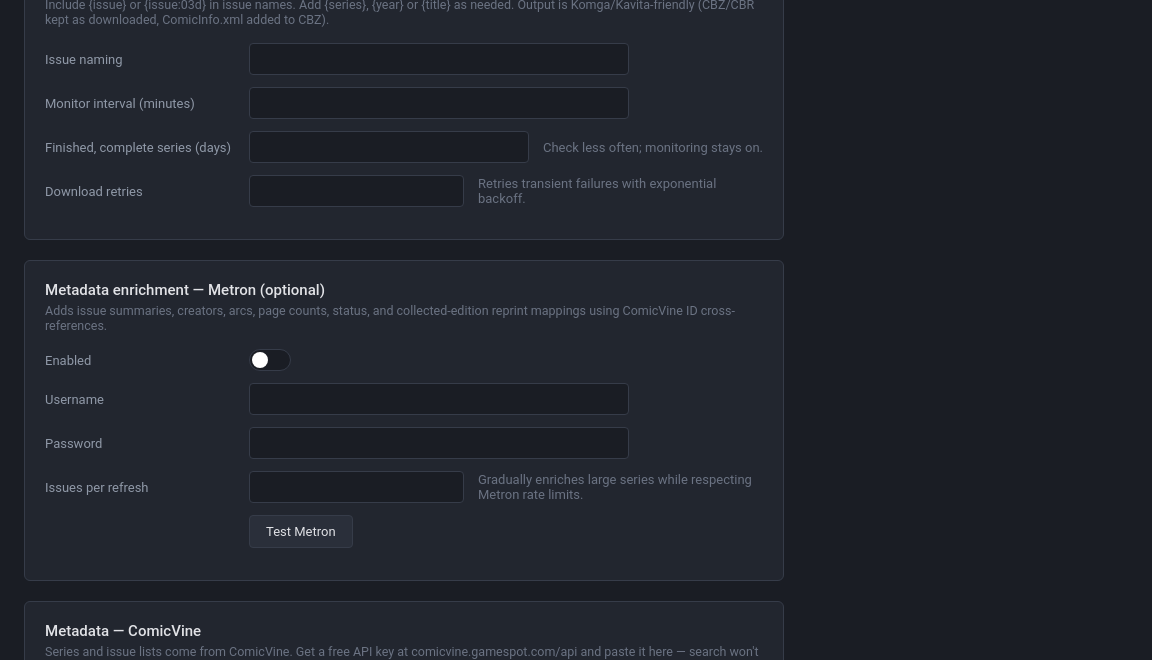
Test case: unsaved settings disable browser password changes and sign-out
The width and height of the screenshot is (1152, 660).
(page scrolled)
What coordinates should you click on to do the following:
click the switch named "Enable Metron"
I would click on:
 (270, 360)
Its box is [249, 349, 291, 371].
(page scrolled)
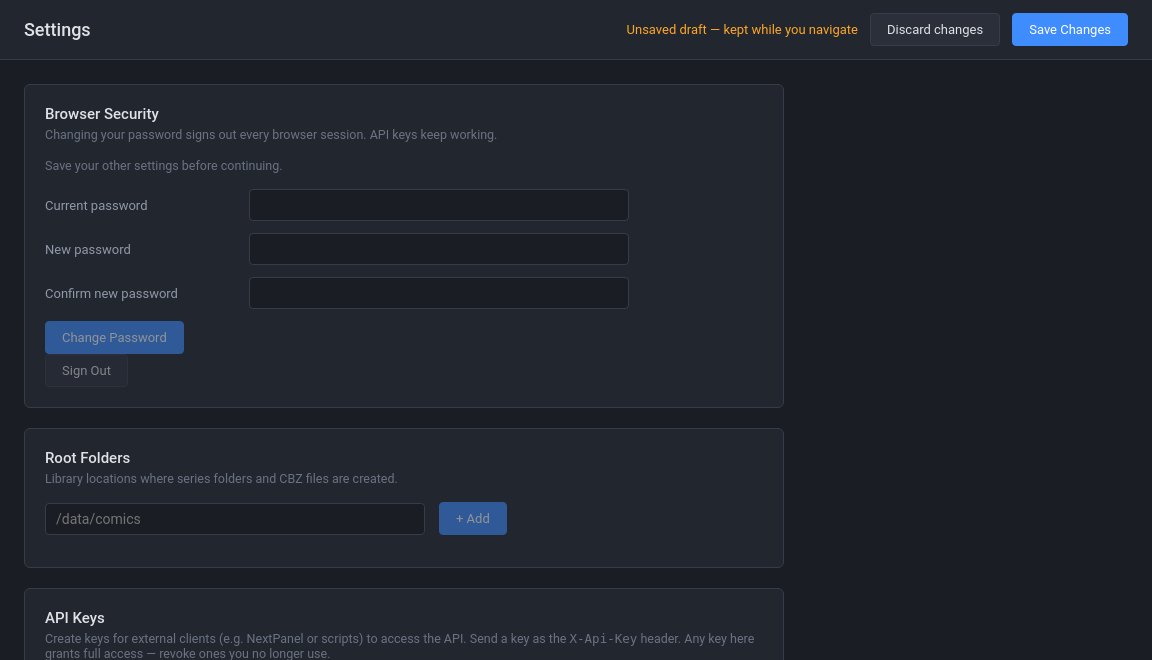
Result: the button "Change Password" is disabled at [45, 321, 184, 354]
Result: the button "Sign Out" is disabled at [45, 354, 128, 387]
What coordinates should you click on to do the following:
click the button "Discard changes"
I would click on:
 (935, 30)
Its box is [870, 13, 1000, 46].
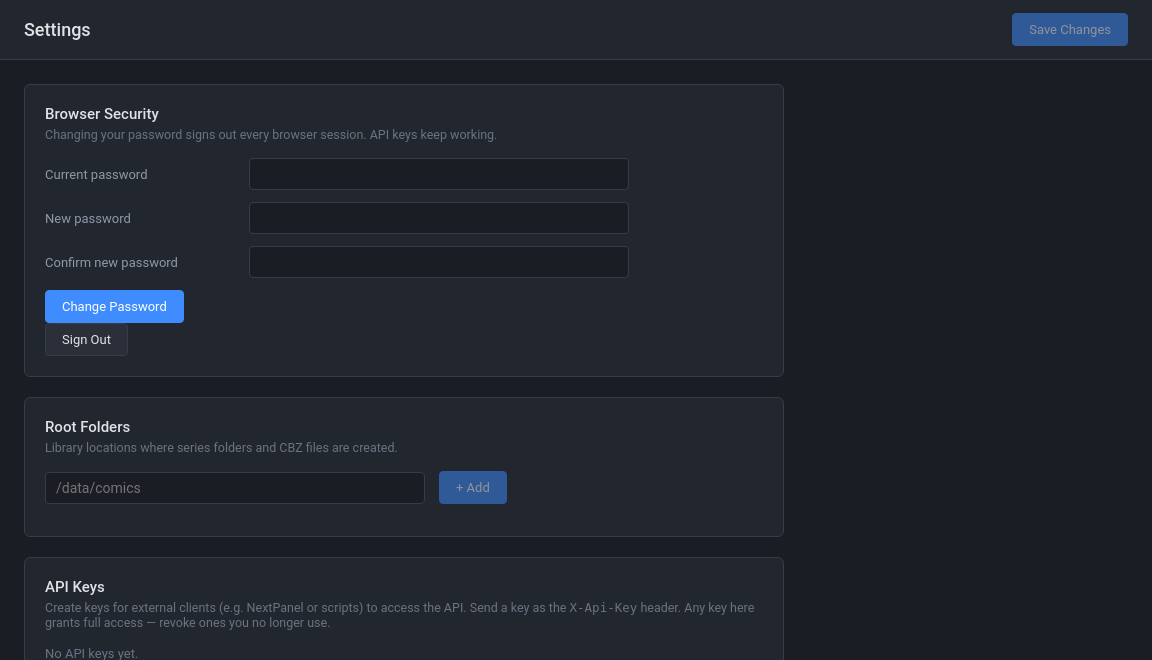
Result: the button "Sign Out" is enabled at [45, 323, 128, 356]
